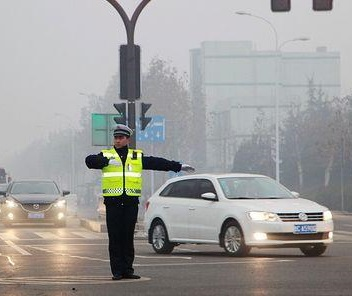person: (82, 119, 196, 286)
